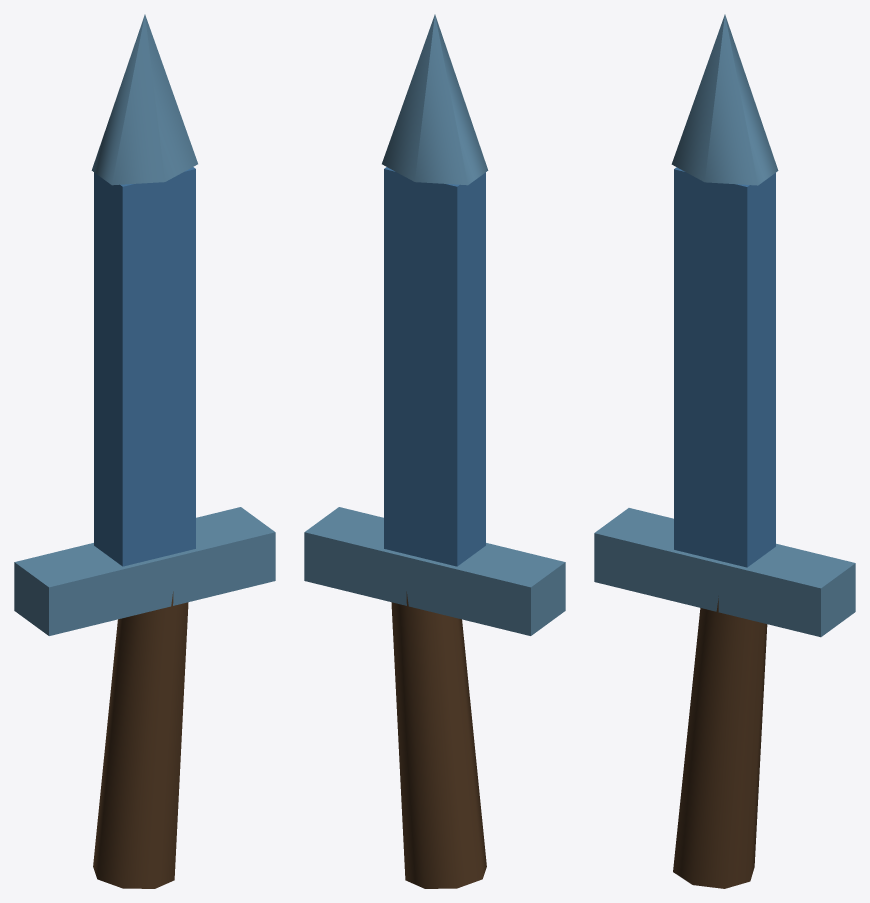
File: wpn_m_02.glb
3 renders of one model, left to right at view 1: azimuth 30°, elevation 25°; view 2: azimuth 150°, elevation 25°; view 3: azimuth 330°, elevation 25°, orthographic.
Visible parts, largest first — view 1: blade, grip, guard, tip; view 2: blade, grip, guard, tip; view 3: blade, grip, guard, tip.
Part boxes in pixels (box(x1,y1,x2,y2)): blade: box(94, 167, 195, 566); grip: box(93, 591, 188, 888); guard: box(14, 507, 275, 635); tip: box(91, 14, 197, 185); blade: box(384, 167, 485, 566); grip: box(391, 591, 486, 888); guard: box(304, 507, 565, 635); tip: box(382, 14, 488, 185); blade: box(674, 167, 775, 567); grip: box(673, 596, 767, 888); guard: box(594, 508, 855, 637); tip: box(671, 14, 778, 185).
Bounding box in the file's own units: 0.34 × 1.23 × 0.11.
